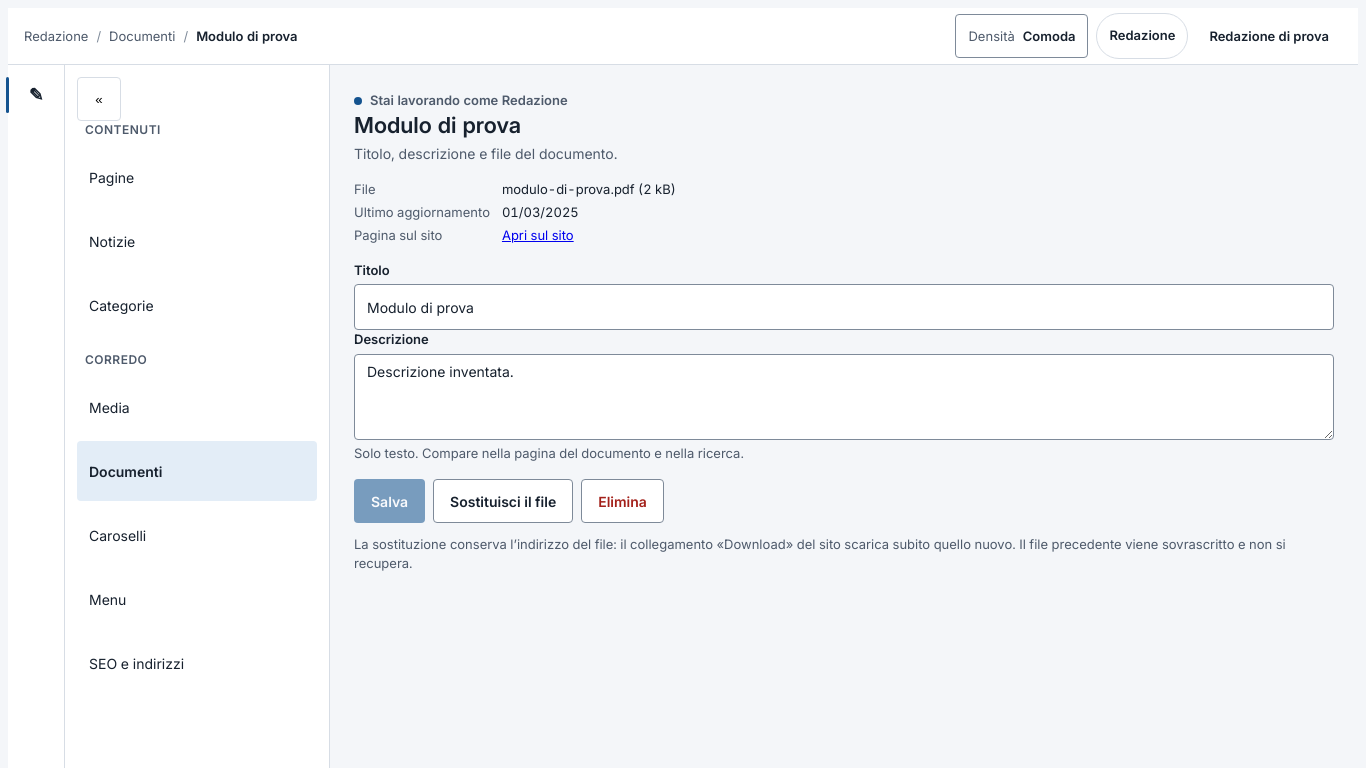
Scenario: «Elimina» nella scheda › con il file usato altrove la conferma dice che il file resta, e nomina i redirect
Expected: the field showing "Modulo di prova" is shown, [354,284,1334,330]
Click the button "Elimina": point(623, 501) [581,479,664,523]
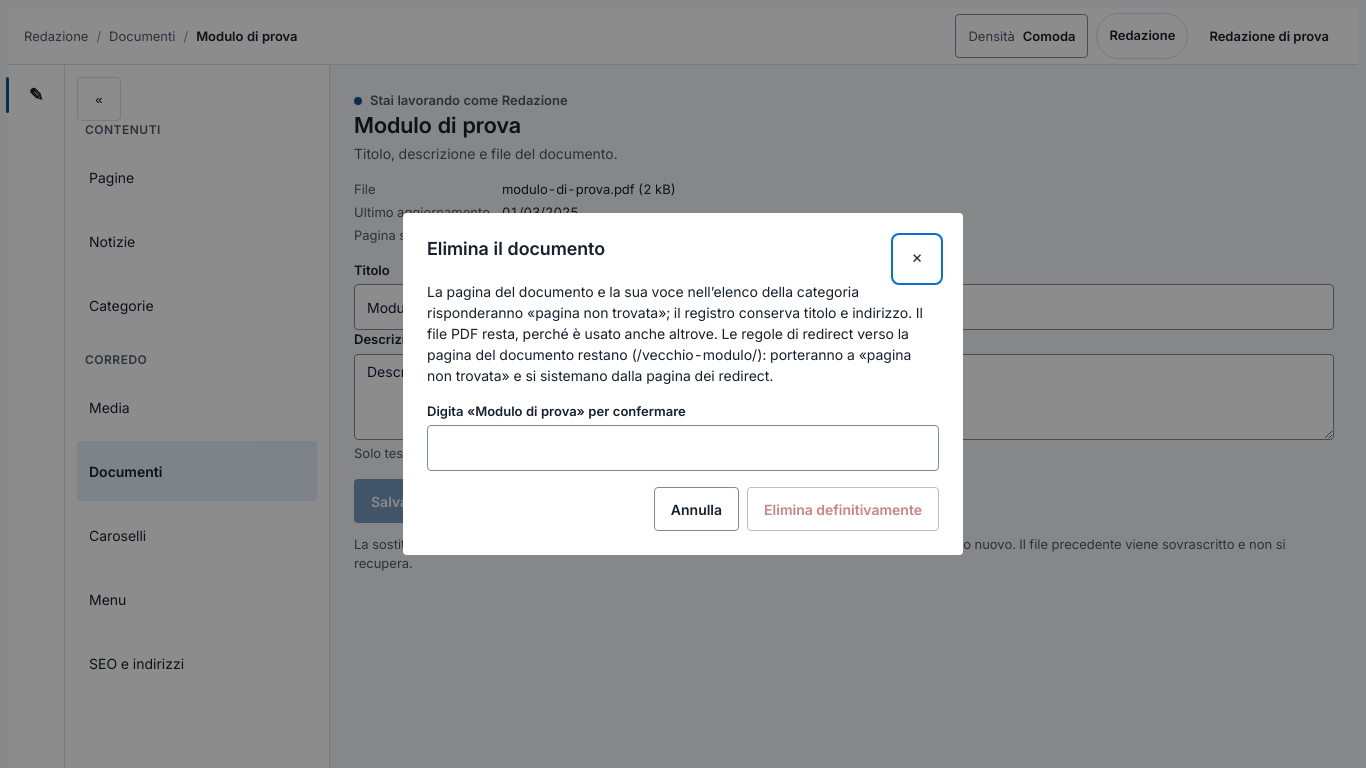
Now the text "/vecchio-modulo/" is shown, box [427,283,923,384]
